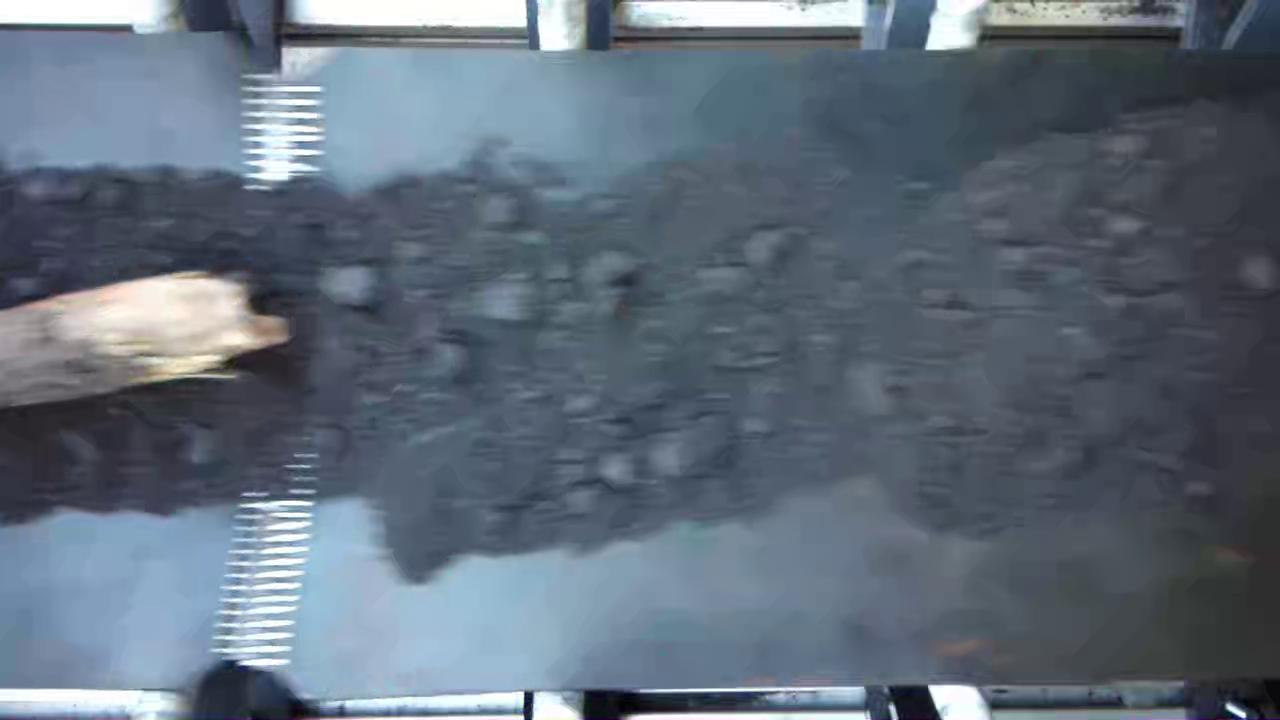conveyor: (1, 51, 1280, 674)
